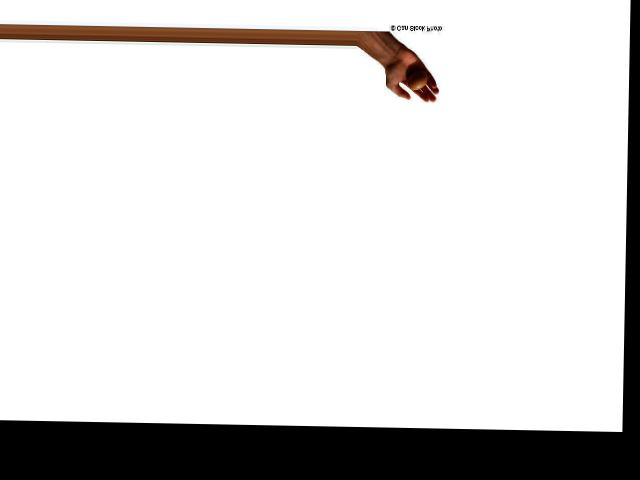egg: (408, 70, 428, 89)
